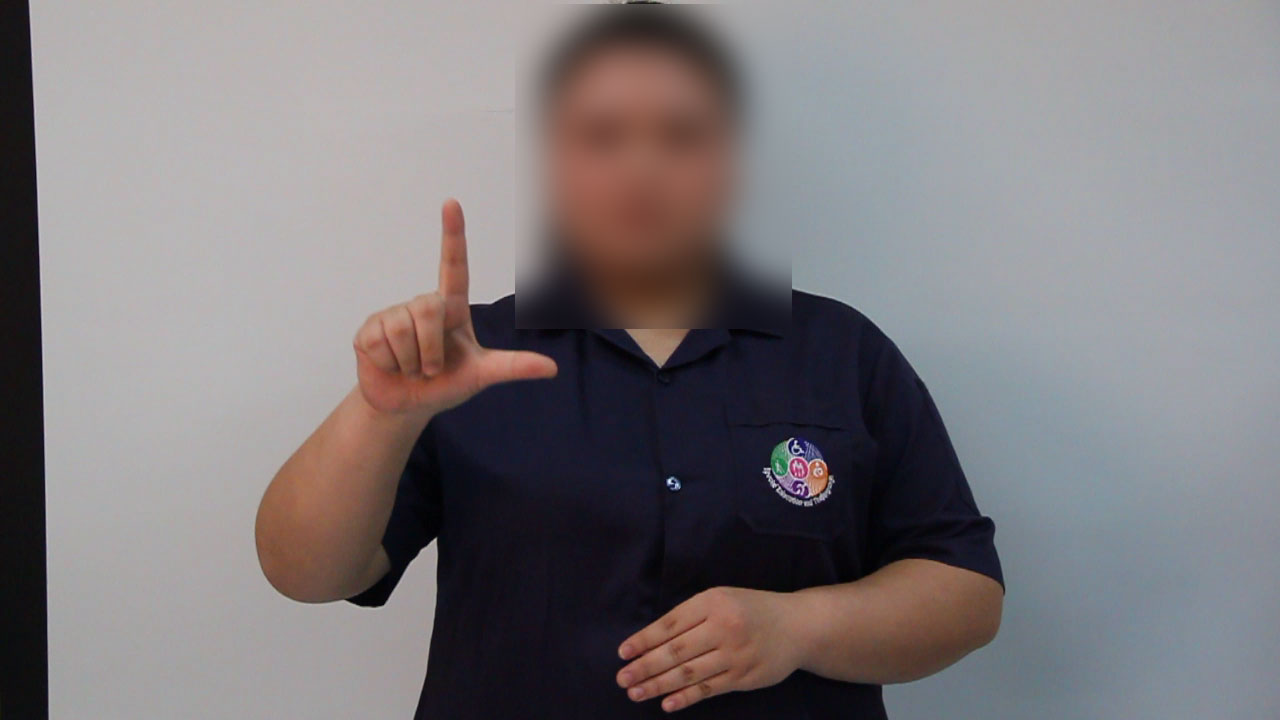lor: (332, 186, 573, 431)
